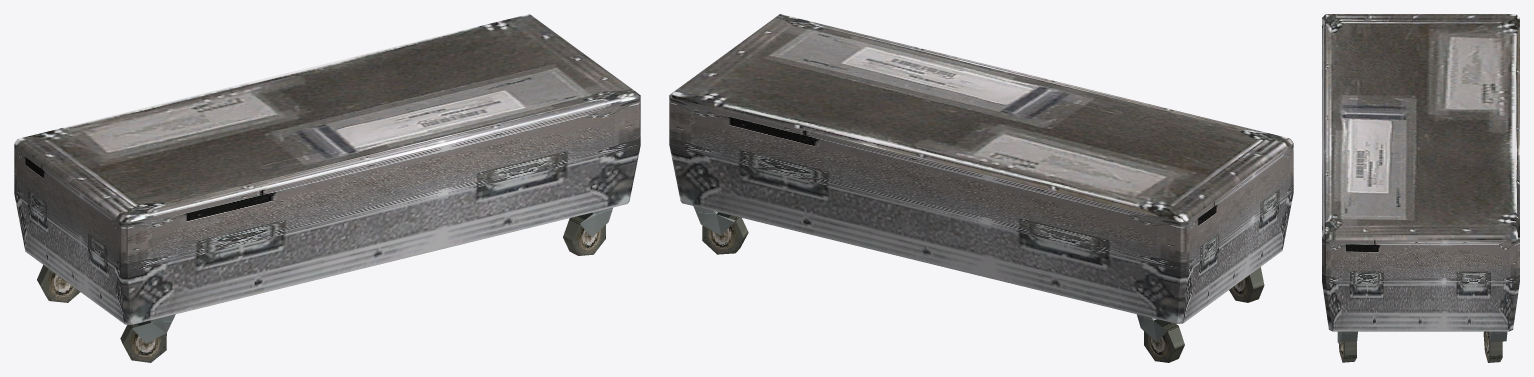
Rendered from missile_10_sfxr.obj.
3 renders of one model, left to right at view 1: azimuth 30°, elevation 25°; view 2: azimuth 150°, elevation 25°; view 3: azimuth 270°, elevation 25°, orthographic. The views are drawn at different scales.
Parts seen in each view (by area): view 1: missile_10_SFXR; view 2: missile_10_SFXR; view 3: missile_10_SFXR.
Boxes of the visible parts, x1,y1,x2,y2 form: missile_10_SFXR: (14,14,640,362); missile_10_SFXR: (669,14,1293,362); missile_10_SFXR: (1322,14,1519,362).
Size of the model in its own units: 3.16 by 0.9344 by 1.18.
3 materials, 3 textured.
